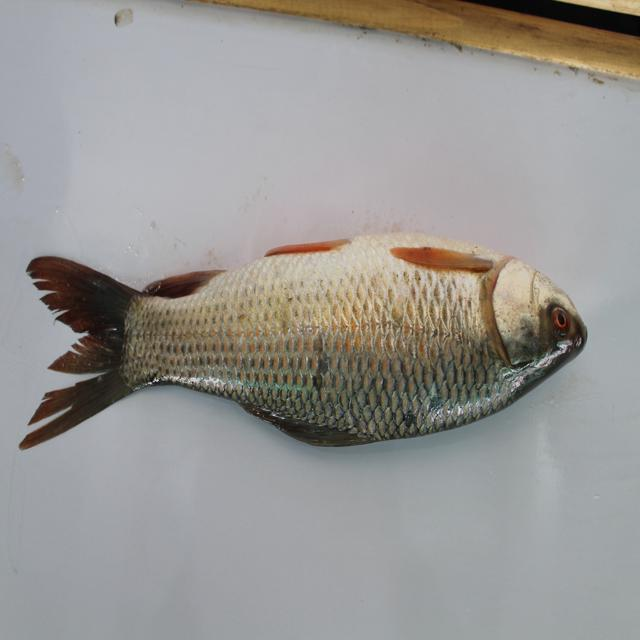Rohu: (10, 231, 603, 448)
